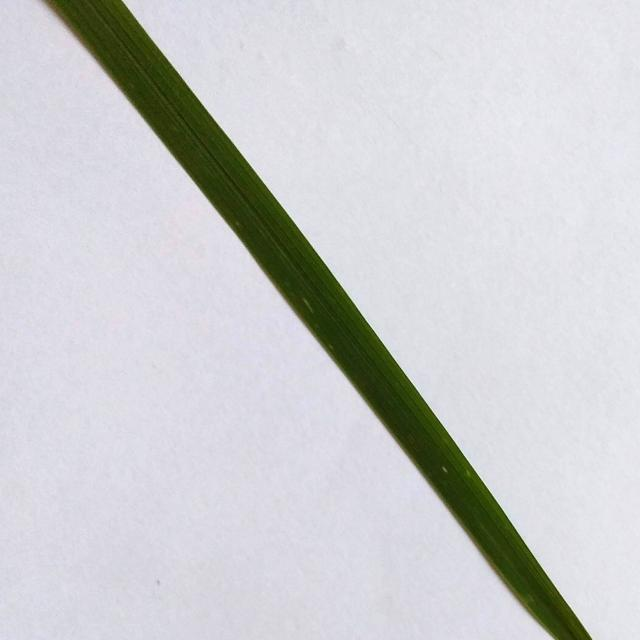Rice_Healthy: (49, 0, 591, 640)
